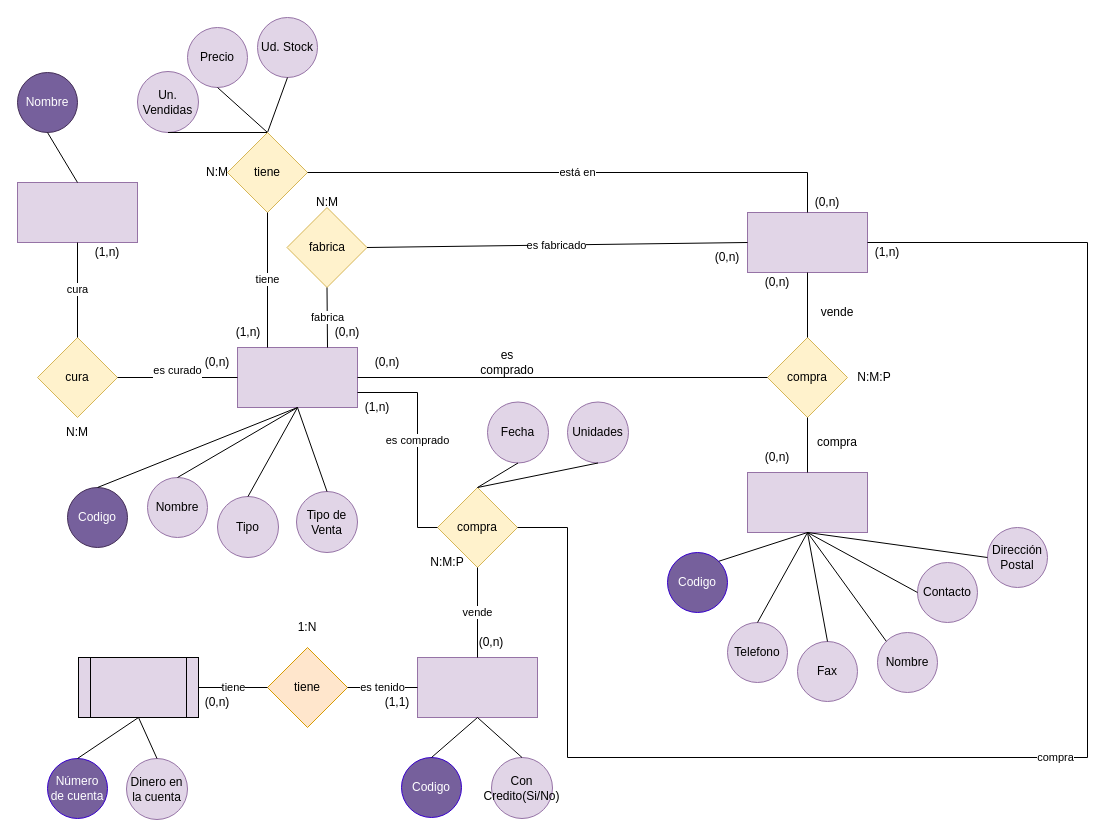
Some shapes in this 1106 by 837 pixel diagram are drawn without their labels. The centre of each missing label's shape, as x and y in pixels:
"Cliente" goes at point (477, 687).
"Cuenta Bancaria" goes at point (138, 687).
"Enfermedad" goes at point (77, 212).
"Farmacia" goes at point (807, 242).
"Laboratorio" goes at point (807, 502).
"Medicamento" goes at point (297, 377).
